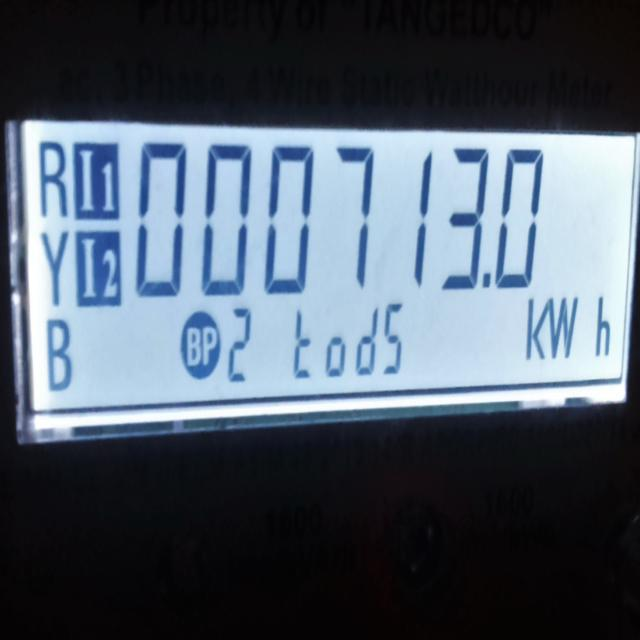.: (482, 268, 492, 292)
0: (137, 143, 184, 295), (265, 146, 311, 290), (205, 147, 249, 295), (497, 150, 544, 286)
1: (412, 152, 431, 290)
2: (228, 304, 250, 382)
3: (442, 147, 485, 289)
7: (337, 147, 372, 290)
